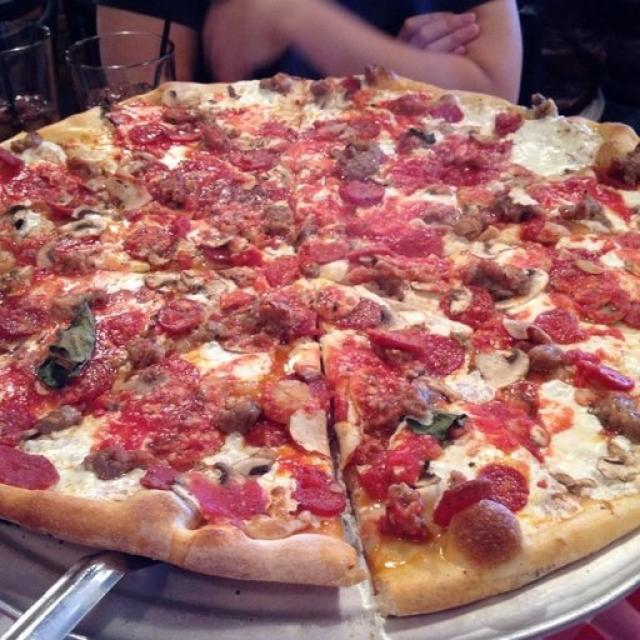Beef: (0, 247, 36, 293), (342, 145, 386, 182), (89, 449, 134, 485), (158, 96, 208, 128), (108, 364, 166, 391), (127, 337, 169, 368), (210, 399, 258, 426), (597, 403, 640, 431), (205, 120, 232, 159), (218, 403, 259, 426), (270, 198, 294, 232), (262, 75, 294, 96), (297, 216, 315, 244)
Mushrooms: (202, 448, 281, 485), (476, 352, 528, 396), (152, 262, 206, 294), (503, 275, 549, 310), (61, 204, 111, 233), (10, 202, 37, 244)
Pepperoni: (477, 464, 539, 508), (421, 332, 467, 375), (302, 475, 352, 512), (443, 156, 488, 190), (339, 291, 379, 329), (6, 307, 46, 343), (585, 358, 627, 391), (156, 304, 202, 332), (107, 307, 143, 338), (370, 326, 425, 346), (342, 180, 376, 208), (217, 285, 254, 310), (131, 121, 167, 144), (145, 463, 179, 487), (240, 149, 278, 170), (0, 149, 20, 181)
Pizza: (0, 72, 640, 611)
Rucola: (57, 306, 92, 386), (410, 407, 469, 437)
